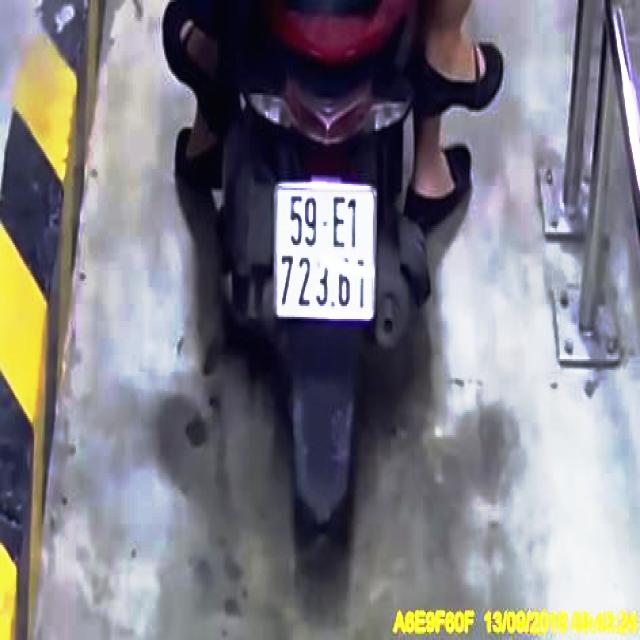license_plate: (277, 188, 375, 319)
